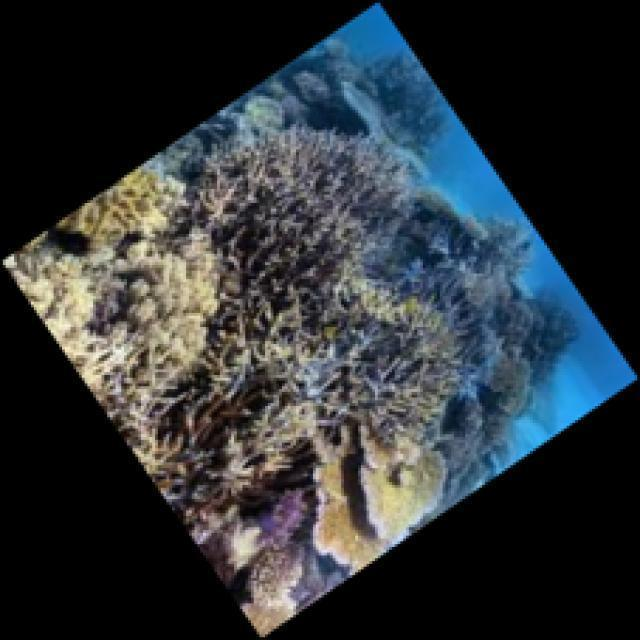Dead Coral: (198, 114, 423, 303), (281, 303, 533, 438), (184, 403, 309, 522)
